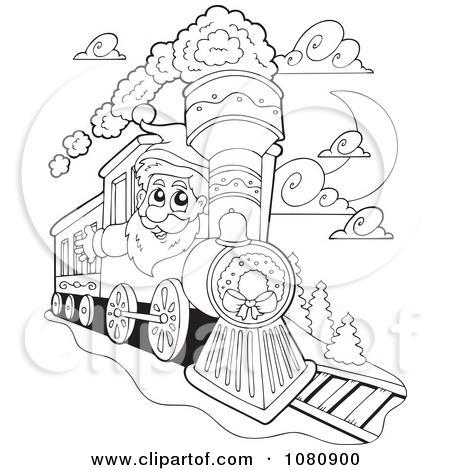train: (46, 70, 316, 424)
